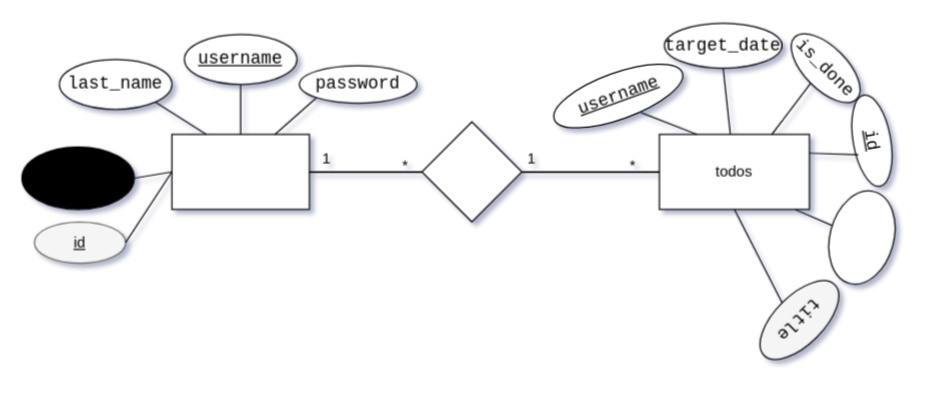
This 935x403 diagram has some shape labels left out. The centre of each missing label's shape, as x and y in pixels:
create: pixel 471 171
description: pixel 861 237
user: pixel 240 171
